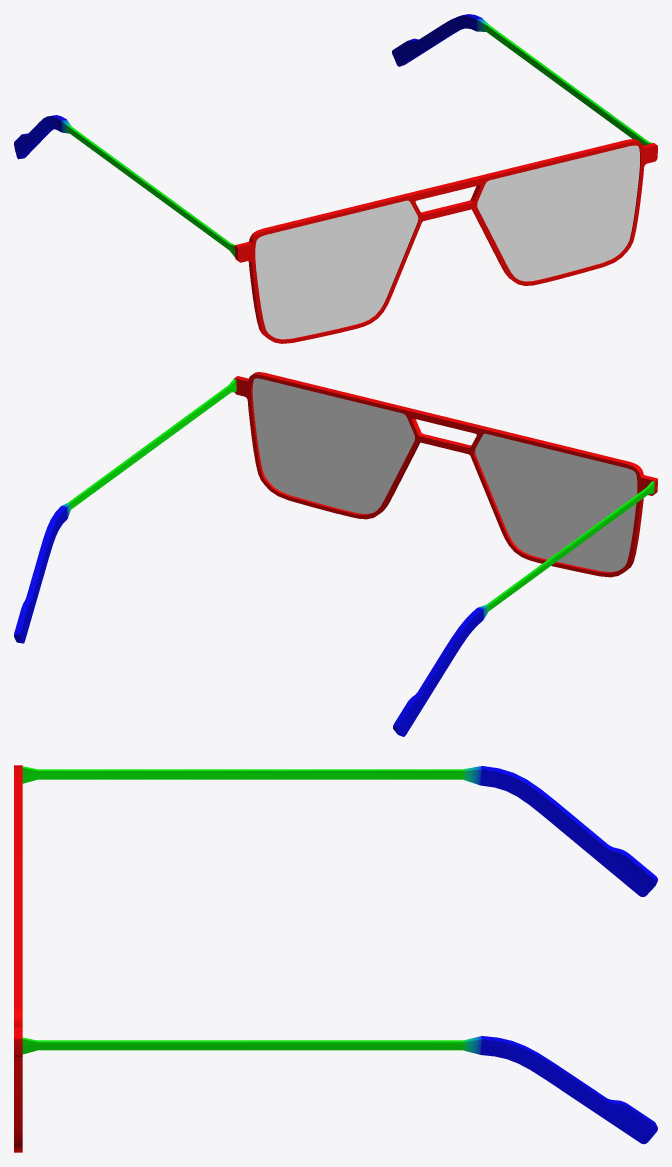
Rendered from ZAIS NeoRetro Glasses Wide.fbx.
3 views of the same model, one above another, from view 1: azimuth 30°, elevation 25°; view 2: azimuth 150°, elevation 25°; view 3: azimuth 270°, elevation 25° (orthographic). The views are drawn at different scales.
Parts seen in each view (by area): view 1: Zais NeoRetro Frames Wide; view 2: Zais NeoRetro Frames Wide; view 3: Zais NeoRetro Frames Wide.
Boxes of the visible parts, bbox=[...] form: Zais NeoRetro Frames Wide: bbox=[14, 14, 657, 343]; Zais NeoRetro Frames Wide: bbox=[14, 372, 657, 736]; Zais NeoRetro Frames Wide: bbox=[14, 765, 657, 1152].
Size of the model in its own units: 0.1742 by 0.0474 by 0.1732.
